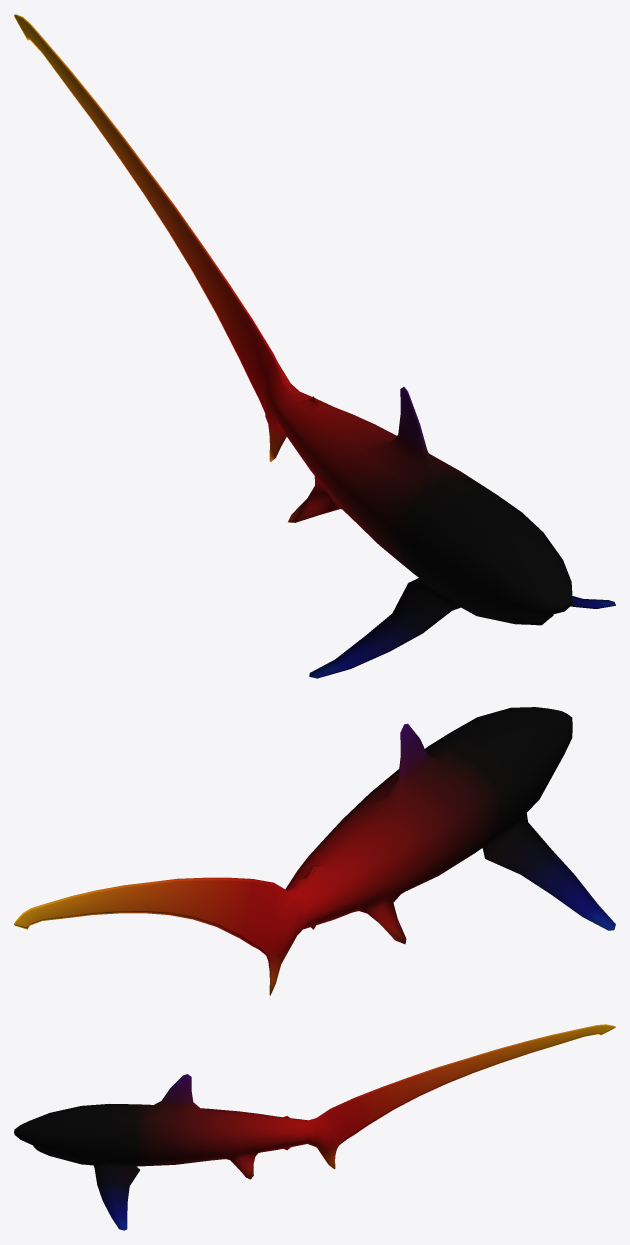
3 views of the same model, one above another, from view 1: azimuth 30°, elevation 25°; view 2: azimuth 150°, elevation 25°; view 3: azimuth 270°, elevation 25° (orthographic). The views are drawn at different scales.
Parts seen in each view (by area): view 1: thresher shark final; view 2: thresher shark final; view 3: thresher shark final.
Part boxes in pixels (x1=…): thresher shark final: x1=14, y1=14, x2=615, y2=678; thresher shark final: x1=14, y1=707, x2=615, y2=995; thresher shark final: x1=14, y1=1024, x2=615, y2=1230.
Bounding box in the file's own units: 1.12 × 1.05 × 3.48.
